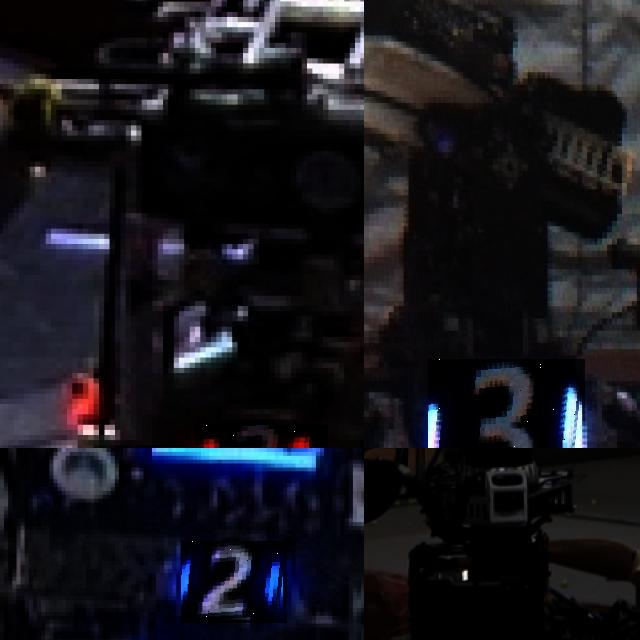B2: (181, 542, 287, 624)
B3: (428, 358, 584, 448)
R2: (194, 424, 328, 448)
